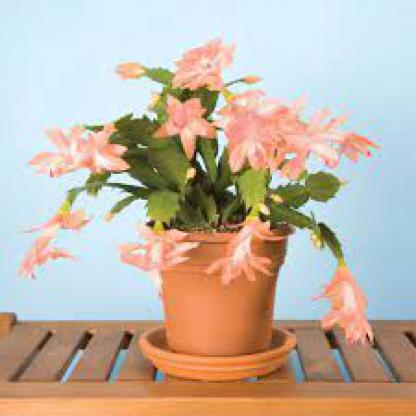Aglonema: (67, 15, 413, 416)
